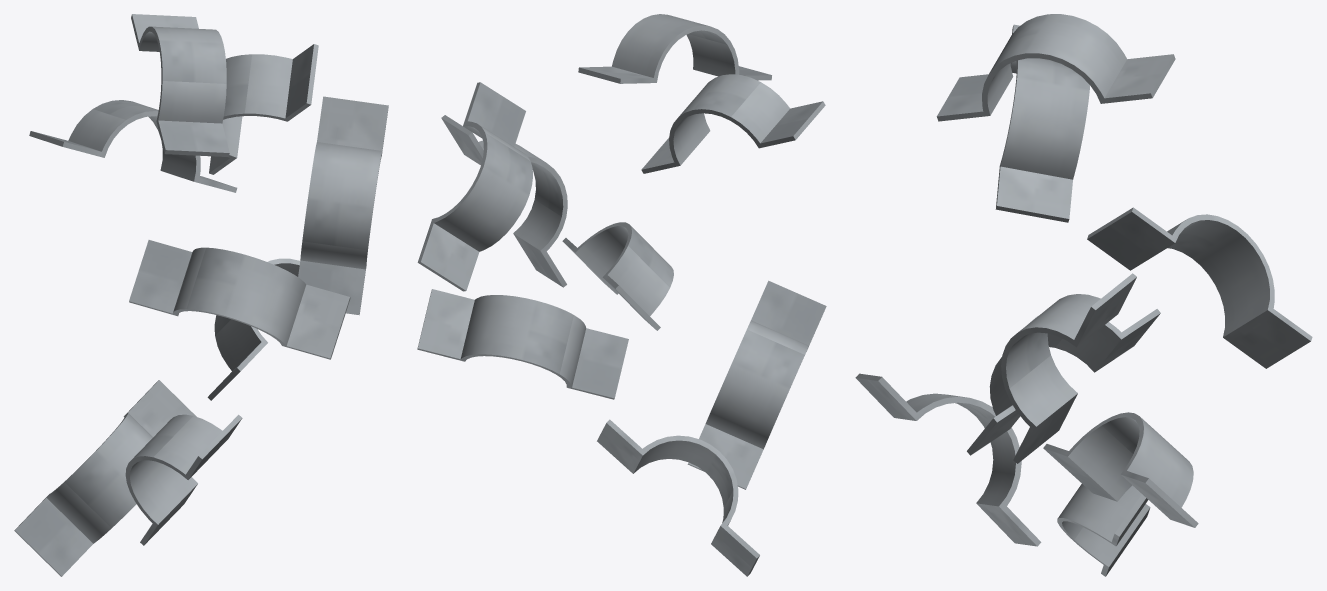
File: HID-INS-004_anim.glb
The picture shows the model from 3 angles, left to right: view 1: azimuth 30°, elevation 25°; view 2: azimuth 150°, elevation 25°; view 3: azimuth 270°, elevation 25°; orthographic projection. The views are drawn at different scales.
Parts seen in each view (by area): view 1: HID-INS-004_anim3, HID-INS-004_anim4, HID-INS-004_anim0, HID-INS-004_anim7, HID-INS-004_anim1, HID-INS-004_anim5, HID-INS-004_anim6, HID-INS-004_anim2; view 2: HID-INS-004_anim2, HID-INS-004_anim1, HID-INS-004_anim5, HID-INS-004_anim6, HID-INS-004_anim7, HID-INS-004_anim3, HID-INS-004_anim0, HID-INS-004_anim4; view 3: HID-INS-004_anim5, HID-INS-004_anim6, HID-INS-004_anim7, HID-INS-004_anim4, HID-INS-004_anim2, HID-INS-004_anim1, HID-INS-004_anim0, HID-INS-004_anim3.
Boxes of the visible parts, left/top/right/bottom form: HID-INS-004_anim3: left=129, top=240, right=350, bottom=359; HID-INS-004_anim4: left=298, top=96, right=388, bottom=315; HID-INS-004_anim0: left=14, top=380, right=196, bottom=576; HID-INS-004_anim7: left=131, top=14, right=229, bottom=156; HID-INS-004_anim1: left=125, top=414, right=242, bottom=545; HID-INS-004_anim5: left=209, top=44, right=318, bottom=174; HID-INS-004_anim6: left=29, top=100, right=237, bottom=192; HID-INS-004_anim2: left=207, top=258, right=300, bottom=400; HID-INS-004_anim2: left=417, top=289, right=628, bottom=399; HID-INS-004_anim1: left=687, top=280, right=826, bottom=489; HID-INS-004_anim5: left=417, top=82, right=532, bottom=291; HID-INS-004_anim6: left=641, top=74, right=825, bottom=173; HID-INS-004_anim7: left=578, top=14, right=771, bottom=83; HID-INS-004_anim3: left=562, top=222, right=673, bottom=330; HID-INS-004_anim0: left=597, top=419, right=759, bottom=576; HID-INS-004_anim4: left=441, top=115, right=567, bottom=287; HID-INS-004_anim5: left=1087, top=207, right=1312, bottom=368; HID-INS-004_anim6: left=995, top=24, right=1089, bottom=222; HID-INS-004_anim7: left=936, top=14, right=1175, bottom=121; HID-INS-004_anim4: left=1001, top=273, right=1136, bottom=463; HID-INS-004_anim2: left=1043, top=412, right=1198, bottom=527; HID-INS-004_anim1: left=855, top=373, right=1041, bottom=546; HID-INS-004_anim0: left=1057, top=484, right=1150, bottom=576; HID-INS-004_anim3: left=967, top=309, right=1160, bottom=455.
Size of the model in its own units: 0.1272 by 0.1799 by 0.1234.
Materials: 1 (1 with a texture image).
